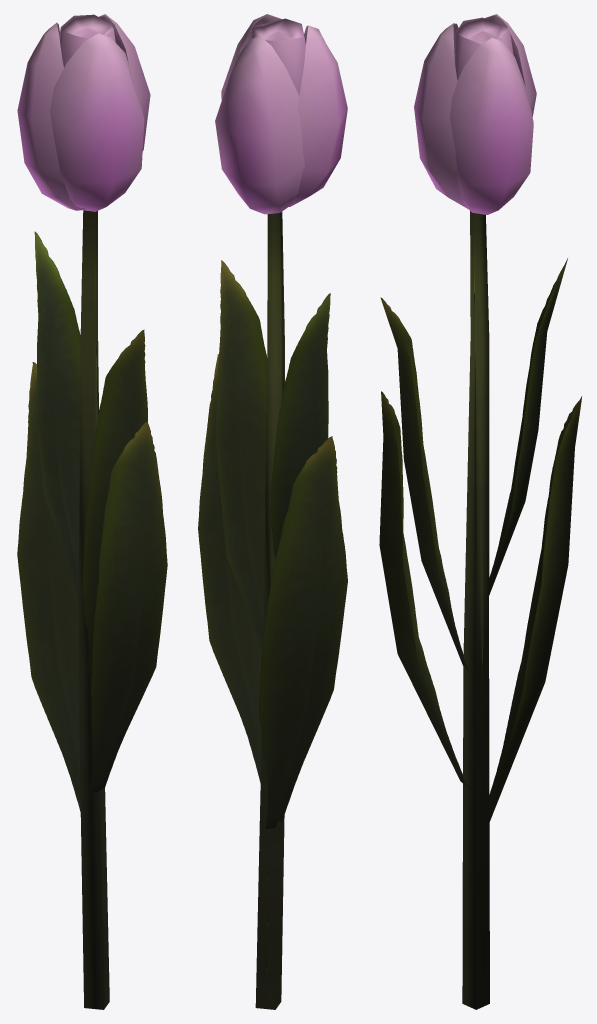
File: Flower_B07.fbx
3 views of the same model, side by side, from view 1: azimuth 30°, elevation 25°; view 2: azimuth 210°, elevation 25°; view 3: azimuth 270°, elevation 25° (orthographic).
Parts seen in each view (by area): view 1: Flower_B07; view 2: Flower_B07; view 3: Flower_B07.
Part boxes in pixels (<box>): Flower_B07: <box>17,14,167,1009</box>; Flower_B07: <box>198,14,347,1009</box>; Flower_B07: <box>379,14,581,1009</box>.
Bounding box in the file's own units: 4.77 × 37.82 × 7.15.
